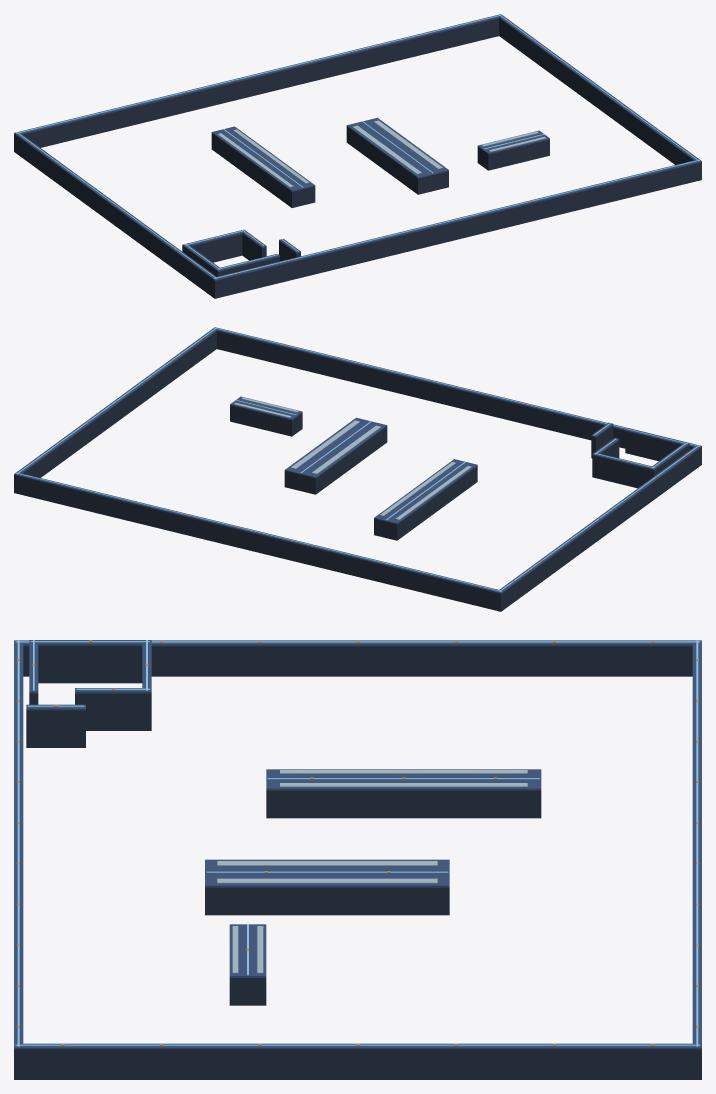
File: campaign_swarm_nest.runtime.gltf
3 views of the same model, one above another, from view 1: azimuth 30°, elevation 25°; view 2: azimuth 150°, elevation 25°; view 3: azimuth 270°, elevation 25° (orthographic). The views are drawn at different scales.
Parts seen in each view (by area): view 1: BATCH material 0, BATCH material 1, BATCH material 3, BATCH material 2; view 2: BATCH material 0, BATCH material 1, BATCH material 3, BATCH material 2; view 3: BATCH material 0, BATCH material 1, BATCH material 3, BATCH material 2.
Part boxes in pixels (x1=…): BATCH material 0: x1=14, y1=18, x2=701, y2=298; BATCH material 1: x1=14, y1=14, x2=701, y2=280; BATCH material 3: x1=16, y1=14, x2=699, y2=278; BATCH material 2: x1=217, y1=120, x2=546, y2=187; BATCH material 0: x1=14, y1=331, x2=701, y2=611; BATCH material 1: x1=14, y1=327, x2=701, y2=593; BATCH material 3: x1=16, y1=327, x2=699, y2=591; BATCH material 2: x1=234, y1=397, x2=471, y2=519; BATCH material 0: x1=14, y1=646, x2=701, y2=1079; BATCH material 1: x1=14, y1=640, x2=701, y2=1049; BATCH material 3: x1=15, y1=640, x2=700, y2=1046; BATCH material 2: x1=217, y1=770, x2=527, y2=973.
Size of the model in its own units: 31.5 by 1.45 by 22.5.
